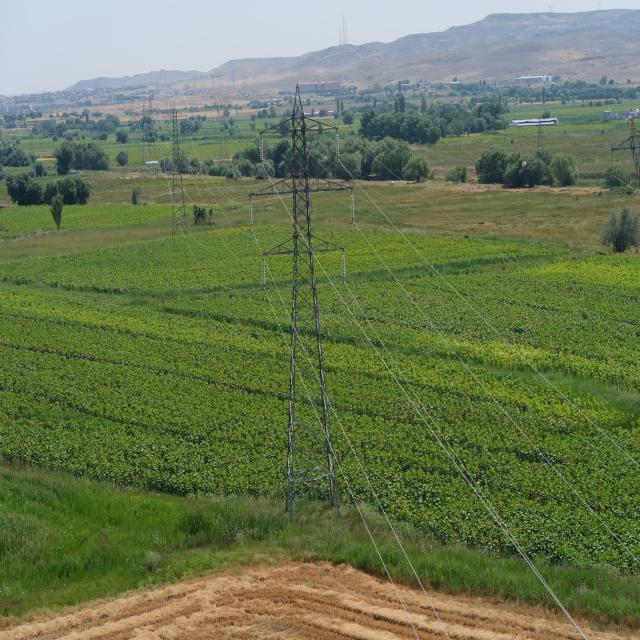direk: (287, 91, 335, 516), (170, 112, 188, 235)
tree: (480, 150, 577, 192), (342, 138, 424, 182), (8, 178, 61, 207), (53, 169, 91, 206), (606, 209, 636, 253), (395, 111, 443, 138), (62, 147, 111, 173), (444, 110, 488, 135), (359, 109, 396, 135), (2, 142, 30, 168), (231, 156, 253, 180), (42, 120, 64, 141), (98, 114, 117, 137)
